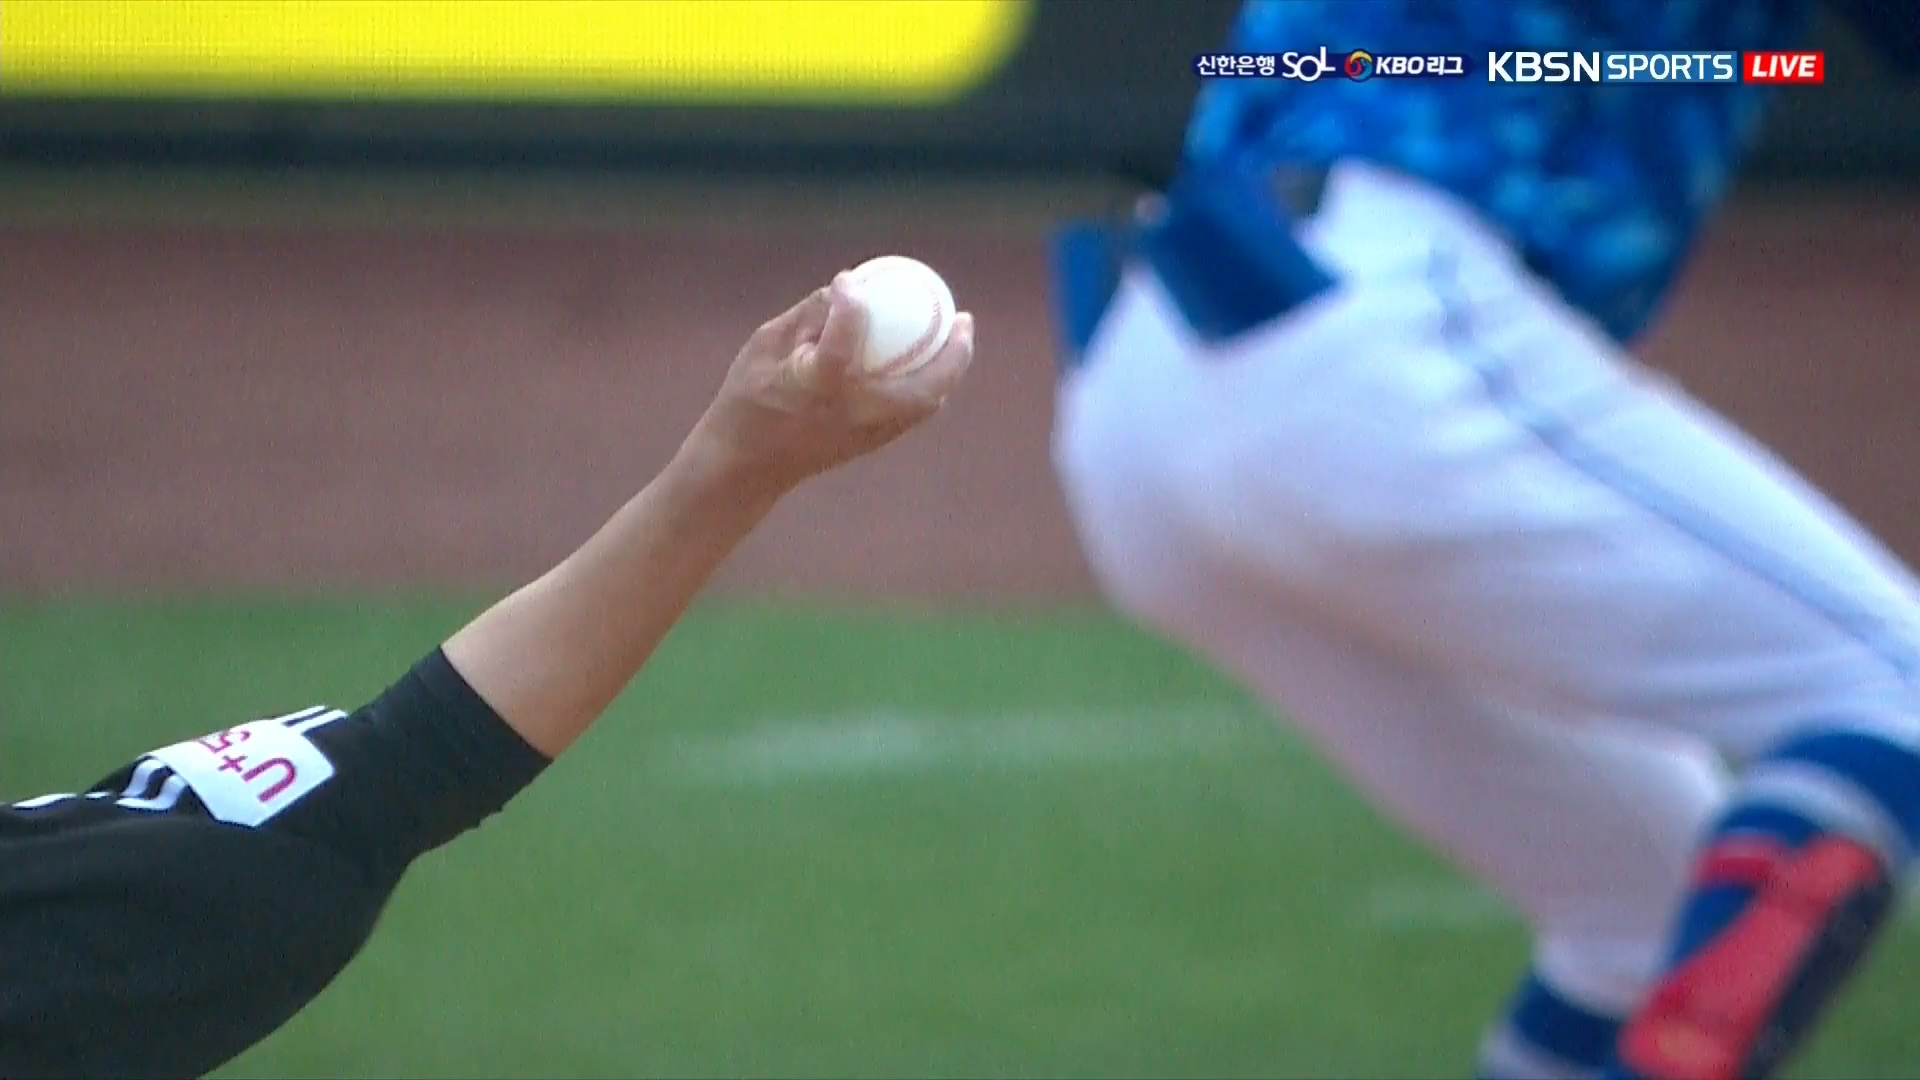zoomin_hand: (421, 243, 982, 845)
